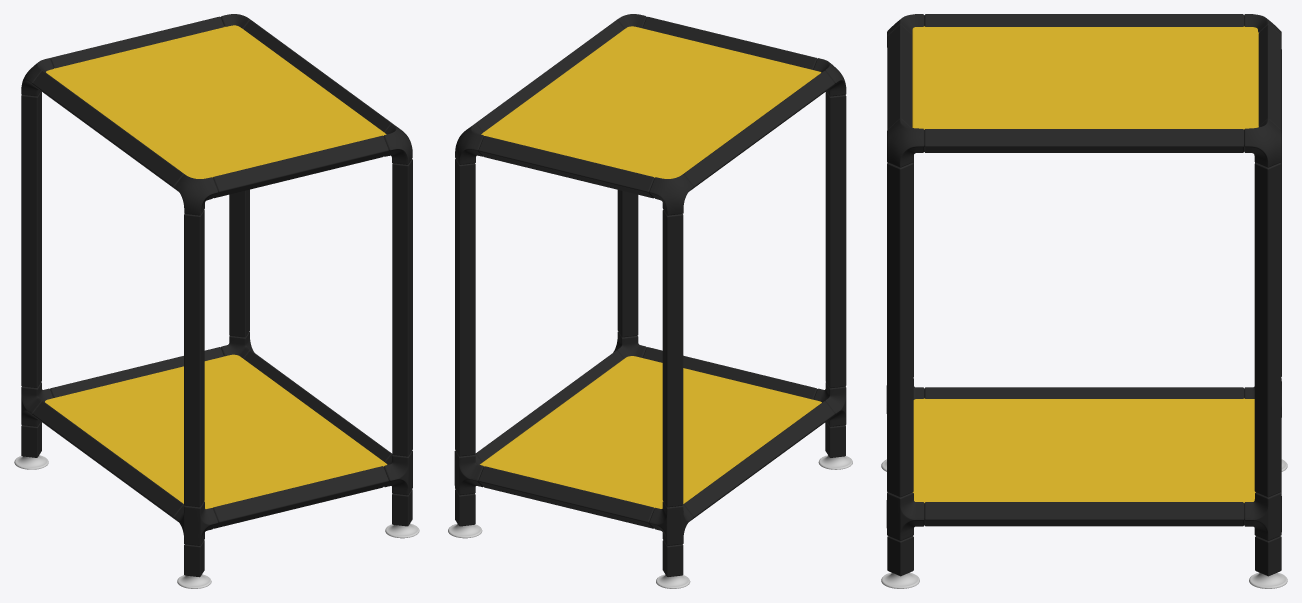
3 views of the same model, side by side, from view 1: azimuth 30°, elevation 25°; view 2: azimuth 150°, elevation 25°; view 3: azimuth 270°, elevation 25° (orthographic). The views are drawn at different scales.
Parts seen in each view (by area): view 1: 229x329x374; view 2: 229x329x374; view 3: 229x329x374.
Part boxes in pixels (x1=…): 229x329x374: x1=14, y1=14, x2=419, y2=588; 229x329x374: x1=448, y1=14, x2=852, y2=588; 229x329x374: x1=881, y1=14, x2=1287, y2=588.
Size of the model in its own units: 0.3189 by 0.5133 by 0.4182.
